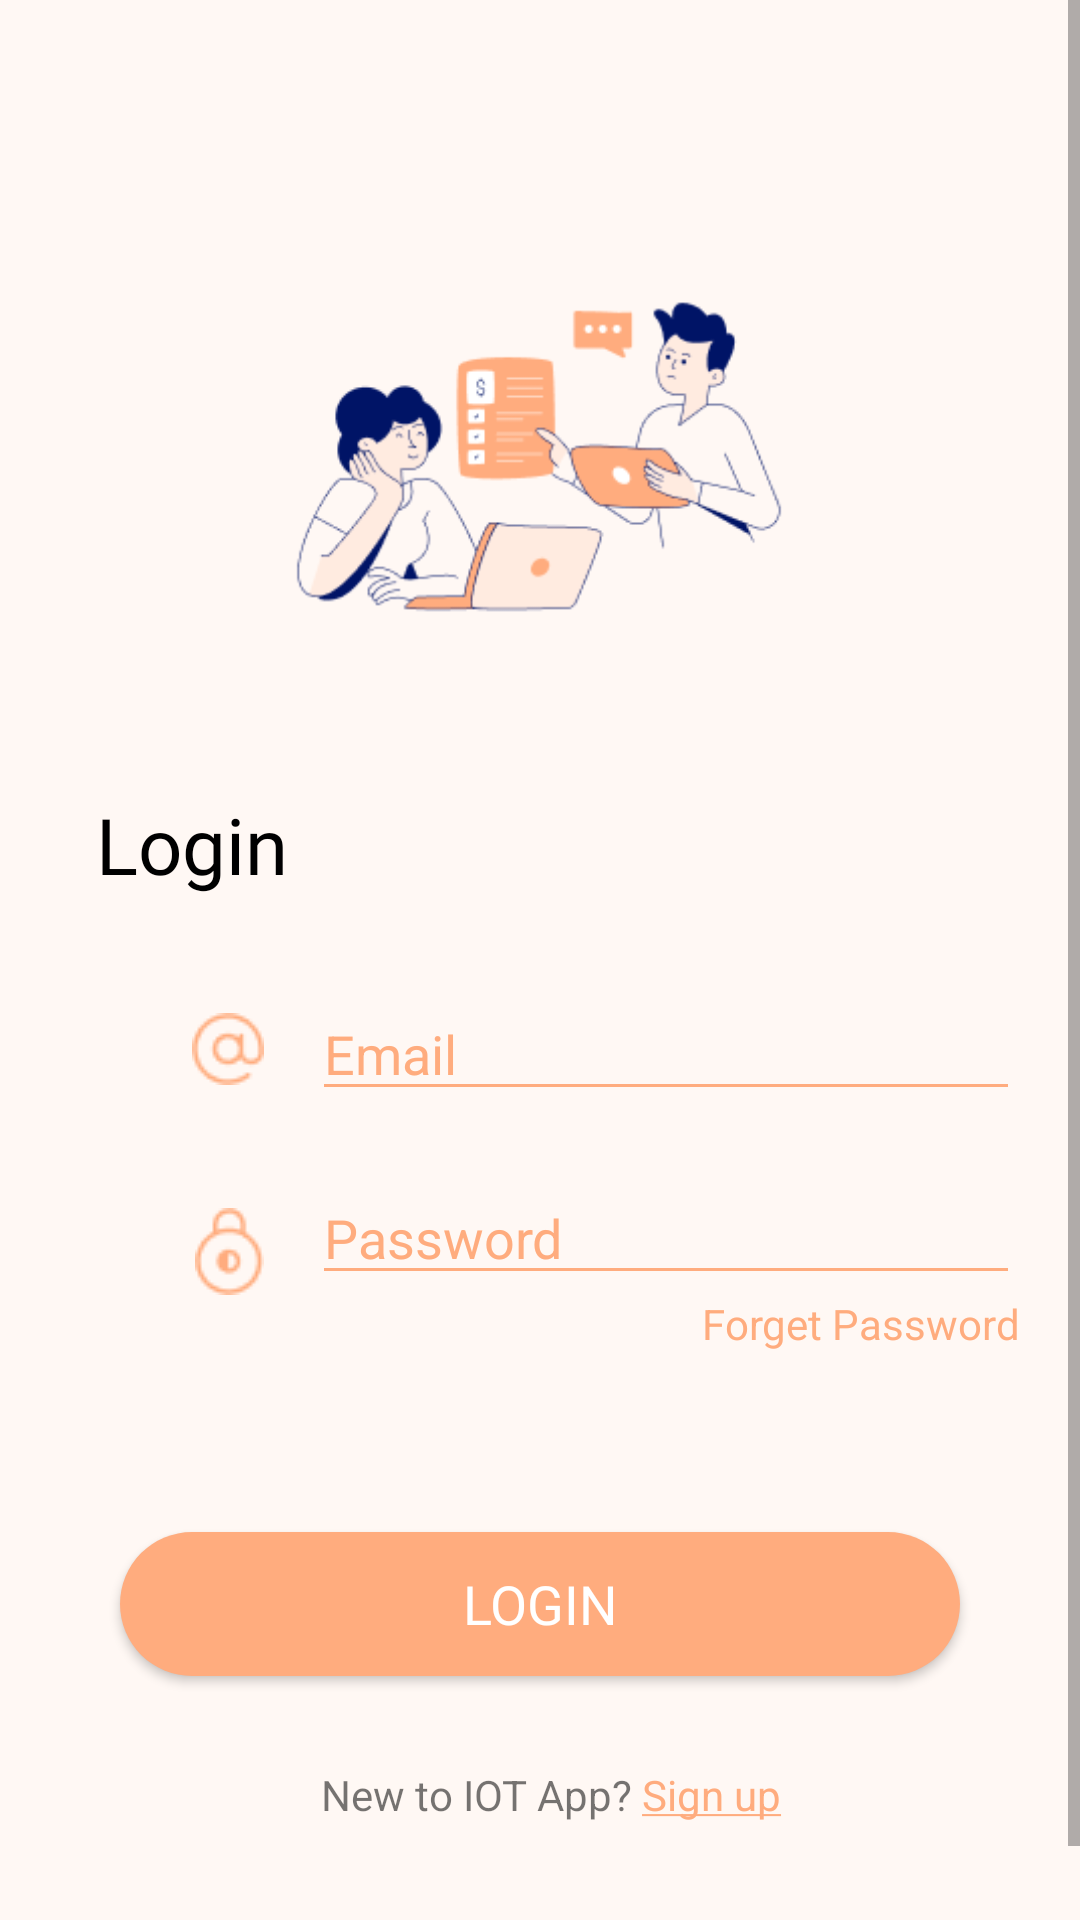

Locate icon controls on the screen. Image size 1080×1920, boxes as (x1, y1, x2, y2).
at rate: (192, 1013, 264, 1085)
lock: (195, 1208, 264, 1295)
